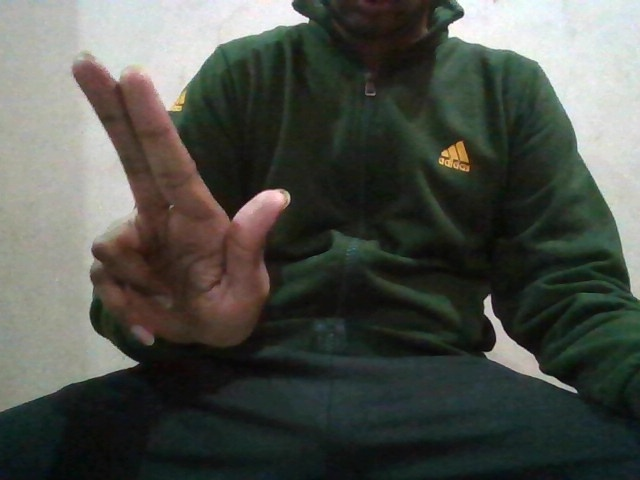K: (60, 47, 295, 350)
